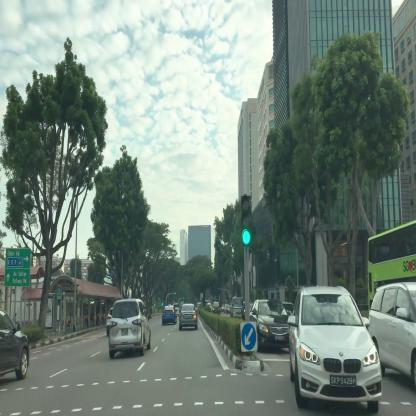green_traffic_light: (242, 194, 252, 246)
